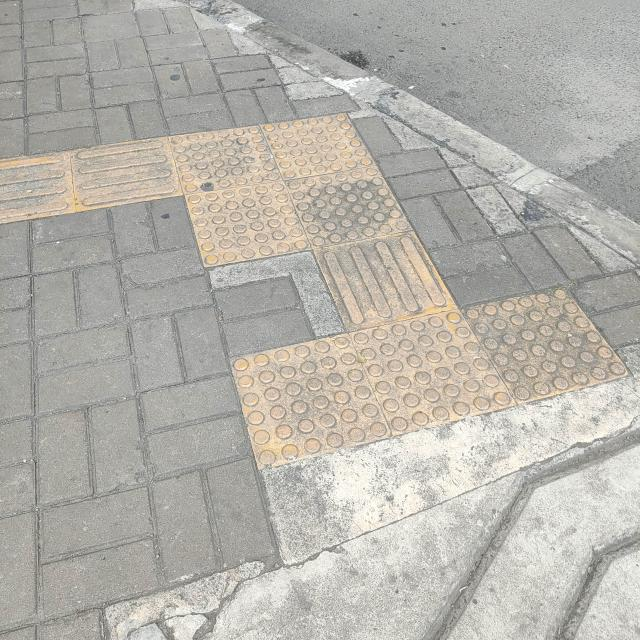kiri: (0, 87, 474, 297)
